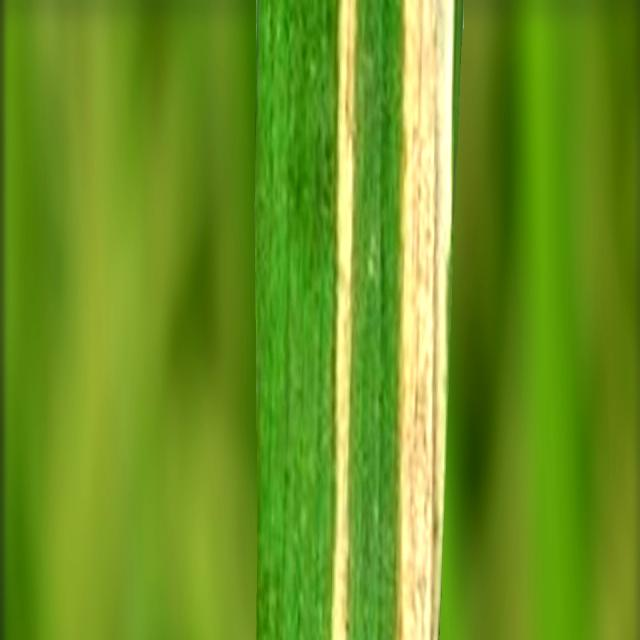BLB: (392, 0, 453, 640), (332, 0, 359, 640)
